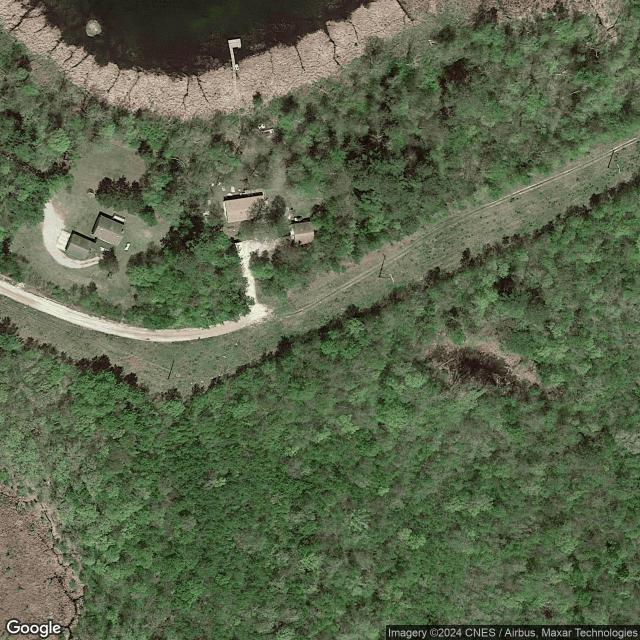Propane: (123, 242, 132, 252)
